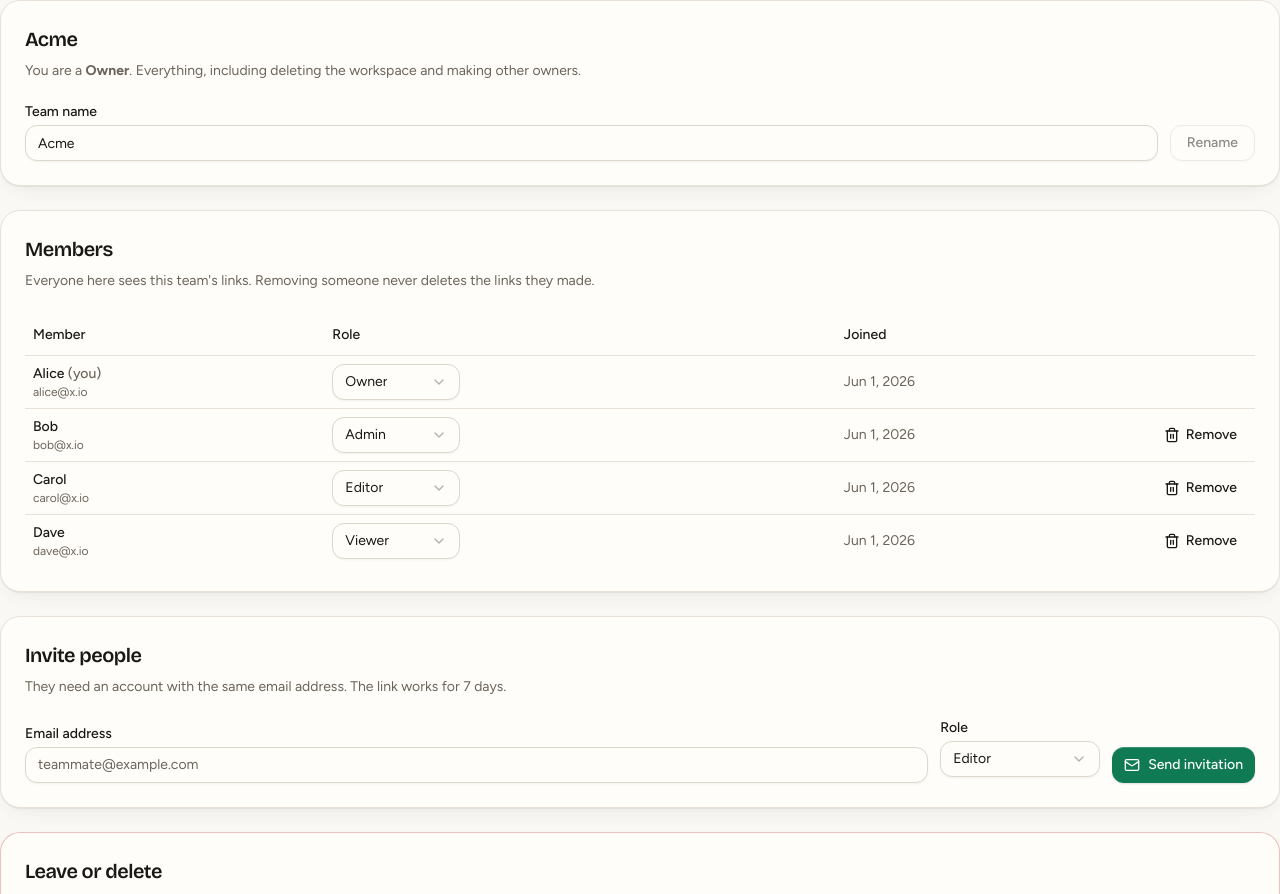
Test: TeamManager as an owner › offers the owner role to other owners
Click the dropdown named "Role for dave@x.io" at {"x": 396, "y": 540}, box left=332, top=522, right=460, bottom=558
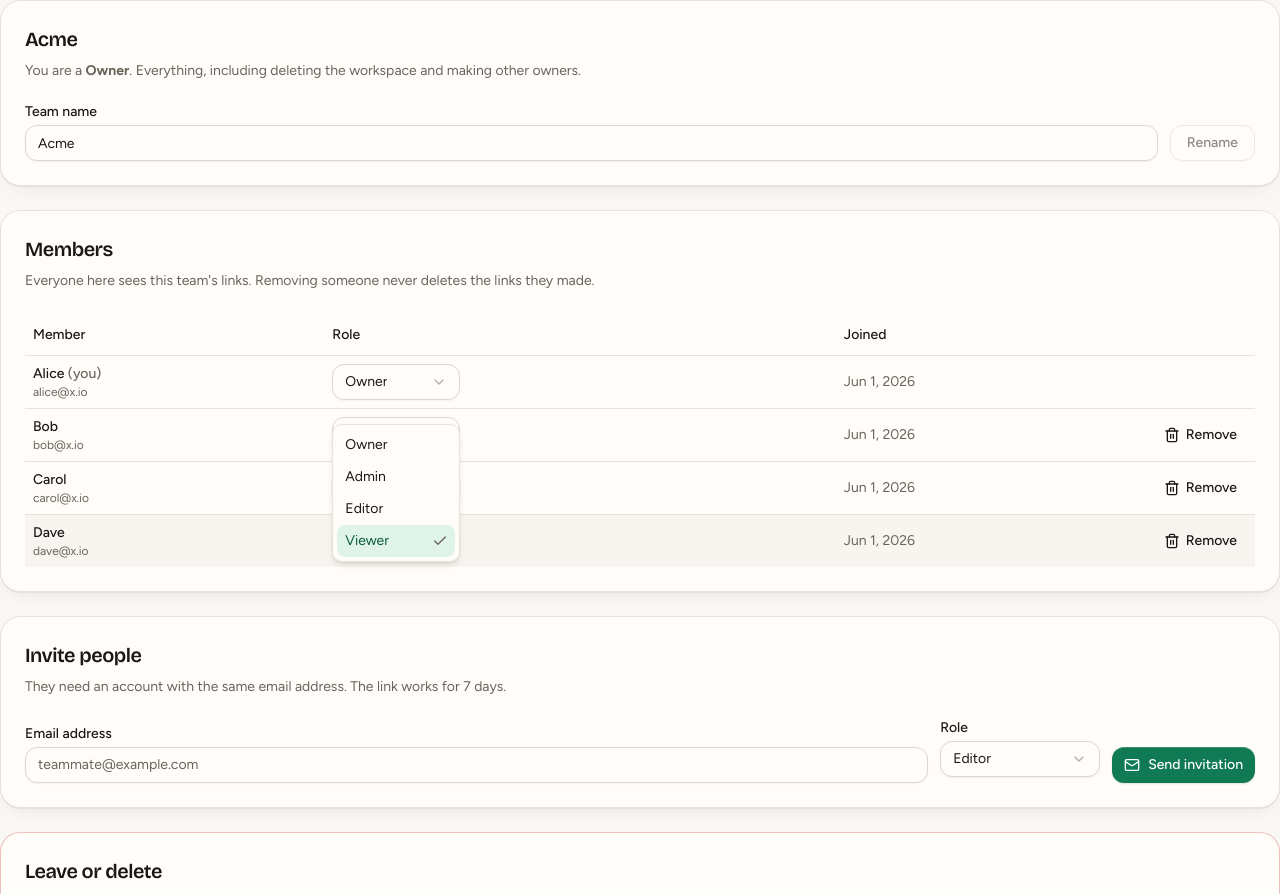
Expected: the option "Owner" is shown, left=345, top=436, right=387, bottom=452
